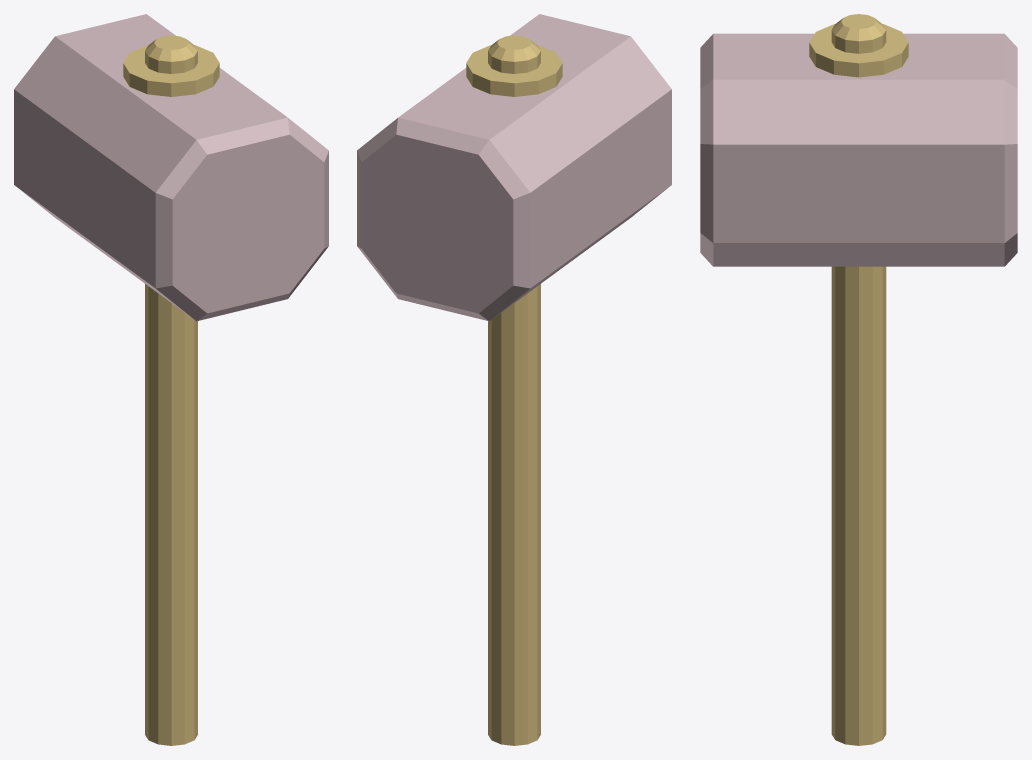
The model's file is hammer.fbx.
3 views of the same model, side by side, from view 1: azimuth 30°, elevation 25°; view 2: azimuth 150°, elevation 25°; view 3: azimuth 270°, elevation 25° (orthographic). The views are drawn at different scales.
Parts seen in each view (by area): view 1: Cylinder; view 2: Cylinder; view 3: Cylinder.
Part boxes in pixels (left/top/right/bottom): Cylinder: left=14, top=14, right=328, bottom=745; Cylinder: left=357, top=14, right=671, bottom=745; Cylinder: left=700, top=14, right=1017, bottom=745.
Bounding box in the file's own units: 14.03 × 53.51 × 21.59.
